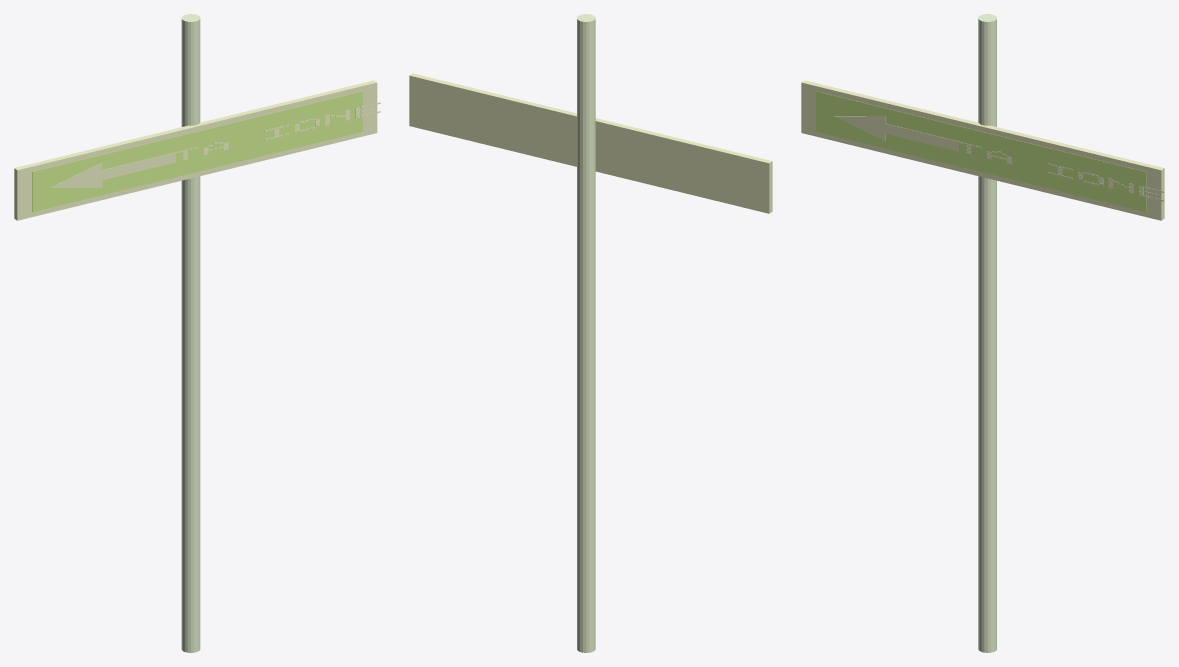
Rendered from sign_stazione_arrow_left.glb.
The picture shows the model from 3 angles, left to right: view 1: azimuth 30°, elevation 25°; view 2: azimuth 150°, elevation 25°; view 3: azimuth 330°, elevation 25°; orthographic projection.
Visible parts, largest first — view 1: layer_1_00, pole, plate_base_00, layer_2_00, layer_2_01; view 2: plate_base_00, pole; view 3: layer_1_00, pole, plate_base_00, layer_2_00, layer_2_01.
Boxes of the visible parts, left/top/right/bottom form: layer_1_00: left=32, top=91, right=362, bottom=212; pole: left=181, top=14, right=200, bottom=652; plate_base_00: left=14, top=80, right=377, bottom=220; layer_2_00: left=102, top=152, right=175, bottom=180; layer_2_01: left=51, top=163, right=102, bottom=187; plate_base_00: left=409, top=73, right=772, bottom=213; pole: left=577, top=14, right=595, bottom=652; layer_1_00: left=816, top=91, right=1146, bottom=212; pole: left=978, top=14, right=996, bottom=652; plate_base_00: left=801, top=80, right=1164, bottom=220; layer_2_00: left=885, top=123, right=958, bottom=151; layer_2_01: left=834, top=116, right=885, bottom=141.
Size of the model in its own units: 1.32 by 2.2 by 0.0725.
